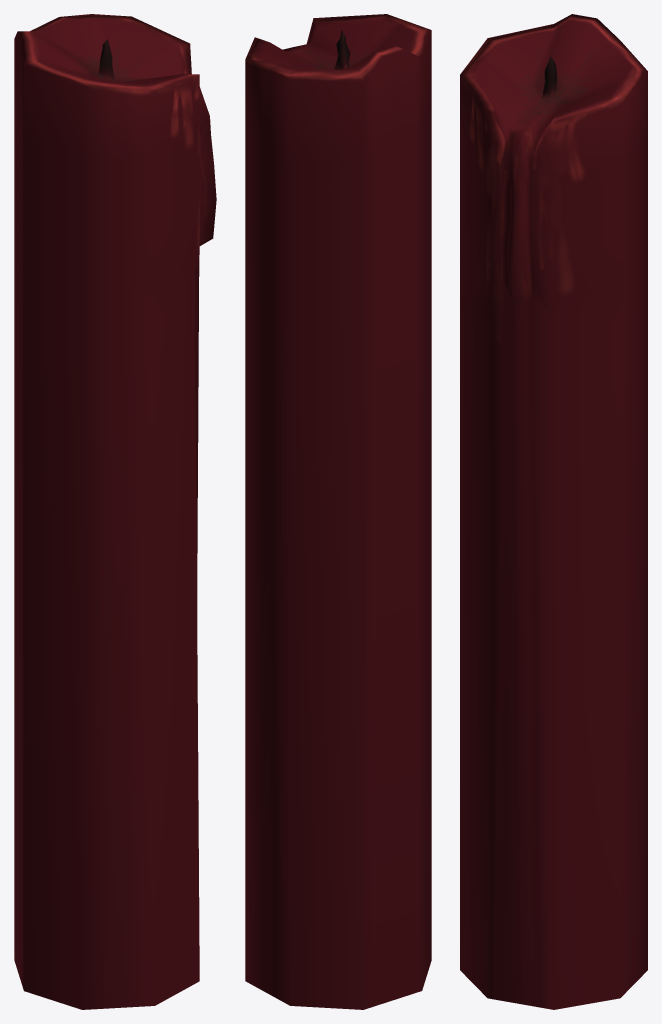
File: Candle_Large.fbx
The picture shows the model from 3 angles, left to right: view 1: azimuth 30°, elevation 25°; view 2: azimuth 150°, elevation 25°; view 3: azimuth 270°, elevation 25°; orthographic projection. The views are drawn at different scales.
Visible parts, largest first — view 1: Candel_Tall; view 2: Candel_Tall; view 3: Candel_Tall.
Boxes of the visible parts, x1,y1,x2,y2 form: Candel_Tall: (14, 14, 216, 1009); Candel_Tall: (245, 14, 431, 1009); Candel_Tall: (460, 14, 647, 1009).
Size of the model in its own units: 8.02 by 41.93 by 7.76.
